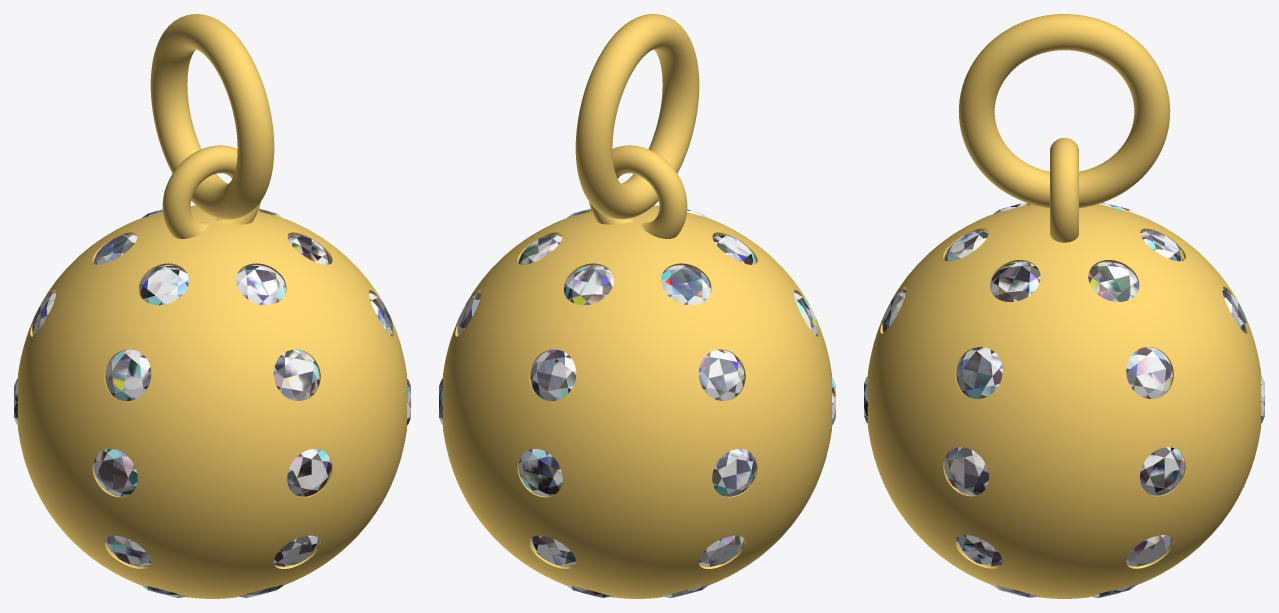
File: demo4.glb
3 renders of one model, left to right at view 1: azimuth 30°, elevation 25°; view 2: azimuth 150°, elevation 25°; view 3: azimuth 270°, elevation 25°, orthographic.
Visible parts, largest first — view 1: moxiang; view 2: moxiang; view 3: moxiang.
Part boxes in pixels (box(x1,y1,x2,y2)): moxiang: box(14, 14, 410, 598); moxiang: box(439, 14, 835, 598); moxiang: box(864, 14, 1264, 598).
Size of the model in its own units: 9.99 by 15.64 by 10.05.
32 materials, 32 textured.
